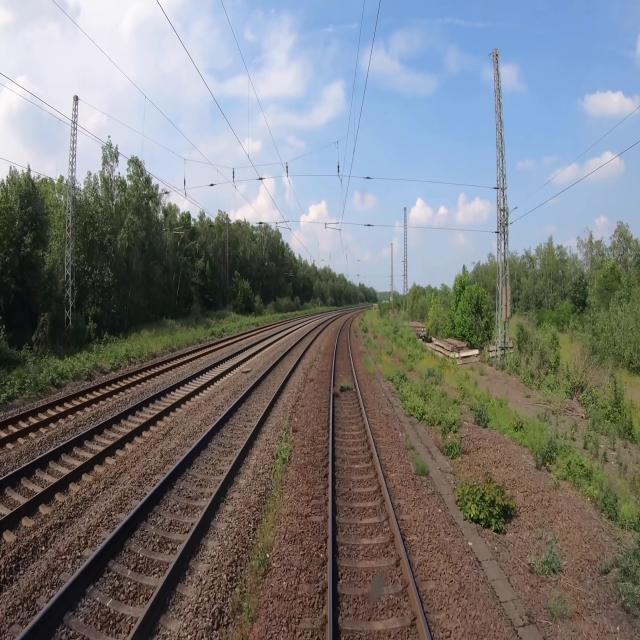Plant: (234, 436, 296, 633), (411, 453, 430, 478), (366, 356, 375, 375), (404, 436, 414, 449), (340, 384, 351, 391), (354, 328, 358, 337)
